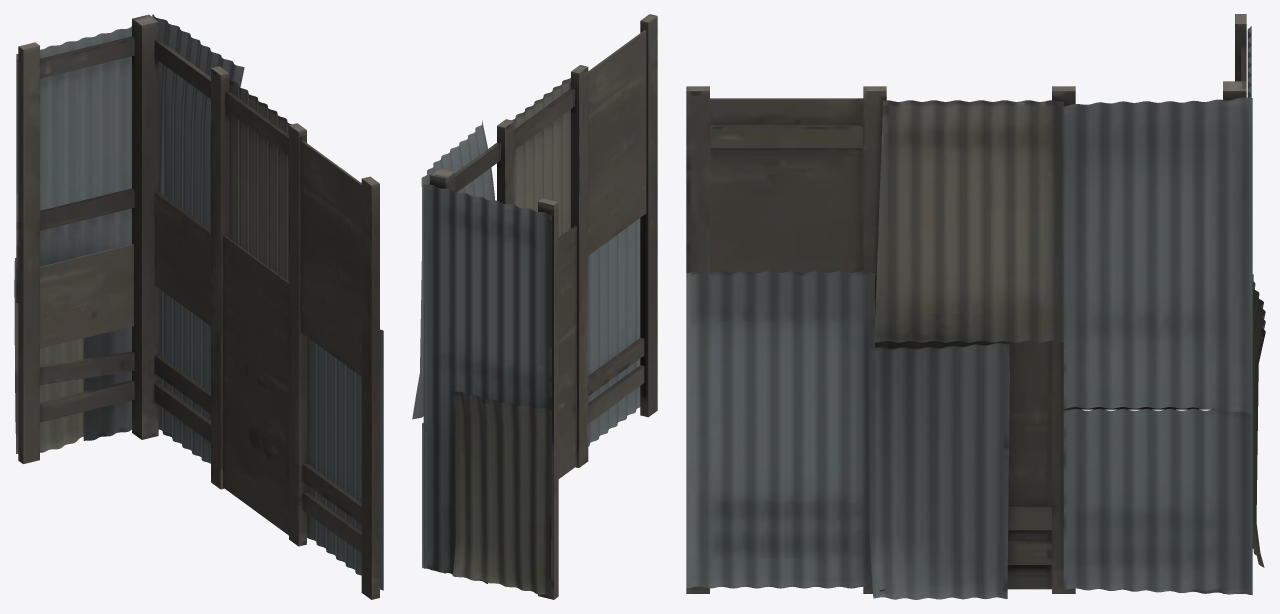
3 views of the same model, side by side, from view 1: azimuth 30°, elevation 25°; view 2: azimuth 150°, elevation 25°; view 3: azimuth 270°, elevation 25° (orthographic). The views are drawn at different scales.
Visible parts, largest first — view 1: body0_model0_lod0_mesh0; view 2: body0_model0_lod0_mesh0; view 3: body0_model0_lod0_mesh0.
Part boxes in pixels (x1,y1,x2,y2): body0_model0_lod0_mesh0: [14, 14, 383, 599]; body0_model0_lod0_mesh0: [412, 14, 657, 599]; body0_model0_lod0_mesh0: [686, 14, 1265, 599].
Bounding box in the file's own units: 72.15 × 189 × 196.
1 material, 1 textured.
